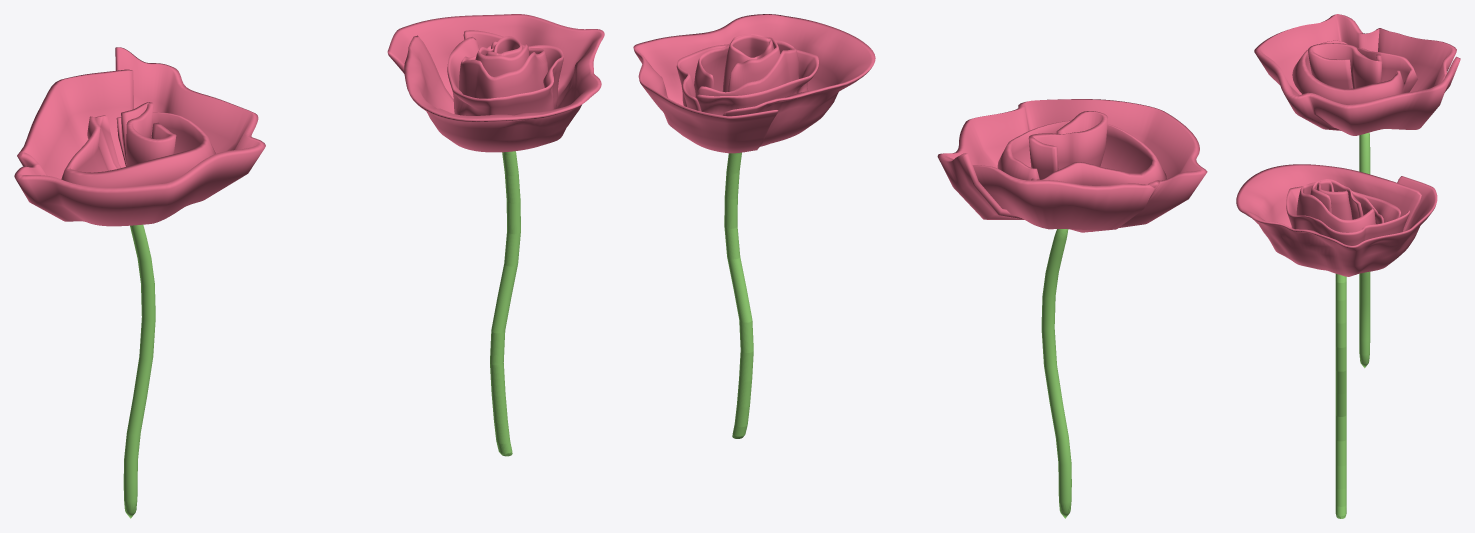
Rendered from rose.glb.
3 views of the same model, side by side, from view 1: azimuth 30°, elevation 25°; view 2: azimuth 150°, elevation 25°; view 3: azimuth 270°, elevation 25° (orthographic). The views are drawn at different scales.
Visible parts, largest first — view 1: rose 3000 poly, rose 12000 poly; view 2: rose 3000 poly, rose 12000 poly; view 3: rose 12000 poly, rose 3000 poly.
Boxes of the visible parts, x1=… form: rose 3000 poly: x1=14, y1=47, x2=265, y2=518; rose 12000 poly: x1=387, y1=14, x2=604, y2=456; rose 3000 poly: x1=937, y1=99, x2=1207, y2=518; rose 12000 poly: x1=633, y1=14, x2=875, y2=438; rose 12000 poly: x1=1236, y1=164, x2=1437, y2=518; rose 3000 poly: x1=1254, y1=14, x2=1460, y2=368.
Bounding box in the file's own units: 0.1958 × 0.1355 × 0.0811.
